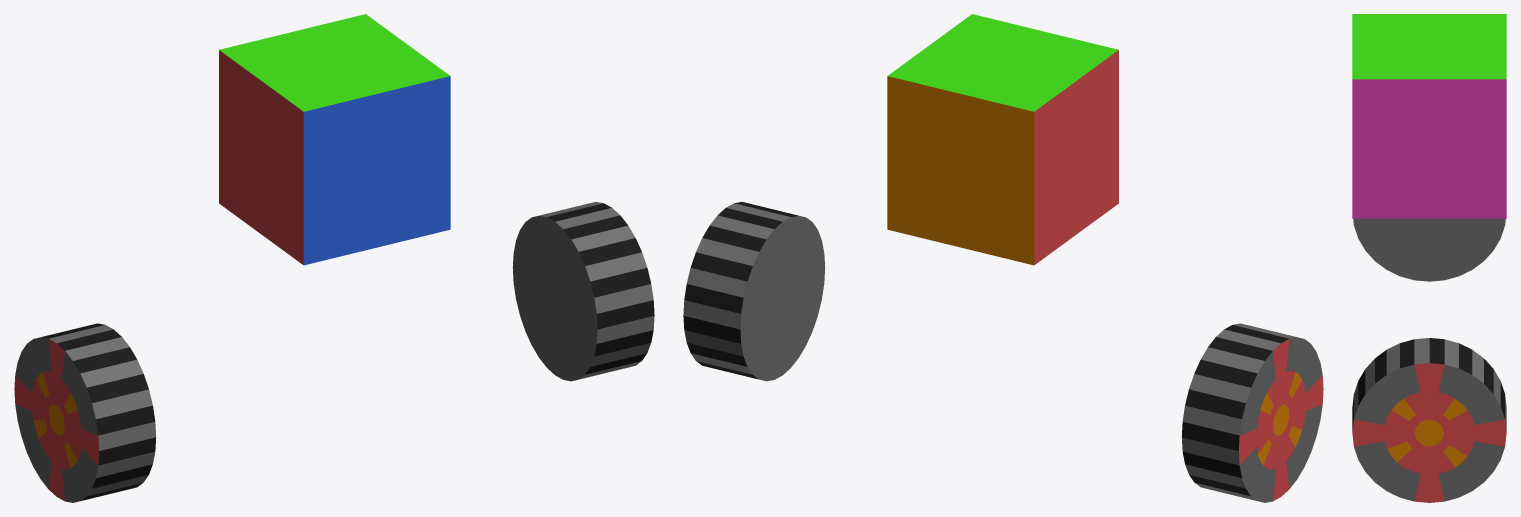
The model's file is car.gltf.
3 renders of one model, left to right at view 1: azimuth 30°, elevation 25°; view 2: azimuth 150°, elevation 25°; view 3: azimuth 270°, elevation 25°, orthographic. The views are drawn at different scales.
Visible parts, largest first — view 1: CubeBody, CylinderWR, CylinderWL; view 2: CubeBody, CylinderWR, CylinderWL; view 3: CubeBody, CylinderWL, CylinderWR.
Part boxes in pixels (x1=…): CubeBody: x1=219, y1=14, x2=450, y2=265; CylinderWR: x1=14, y1=323, x2=156, y2=502; CylinderWL: x1=512, y1=202, x2=654, y2=381; CubeBody: x1=887, y1=14, x2=1118, y2=265; CylinderWR: x1=1181, y1=323, x2=1323, y2=502; CylinderWL: x1=683, y1=202, x2=825, y2=381; CubeBody: x1=1352, y1=14, x2=1506, y2=218; CylinderWL: x1=1352, y1=338, x2=1506, y2=502; CylinderWR: x1=1353, y1=219, x2=1505, y2=281.
Size of what is drawn, in the model's own units: 7.57 by 4.77 by 2.
